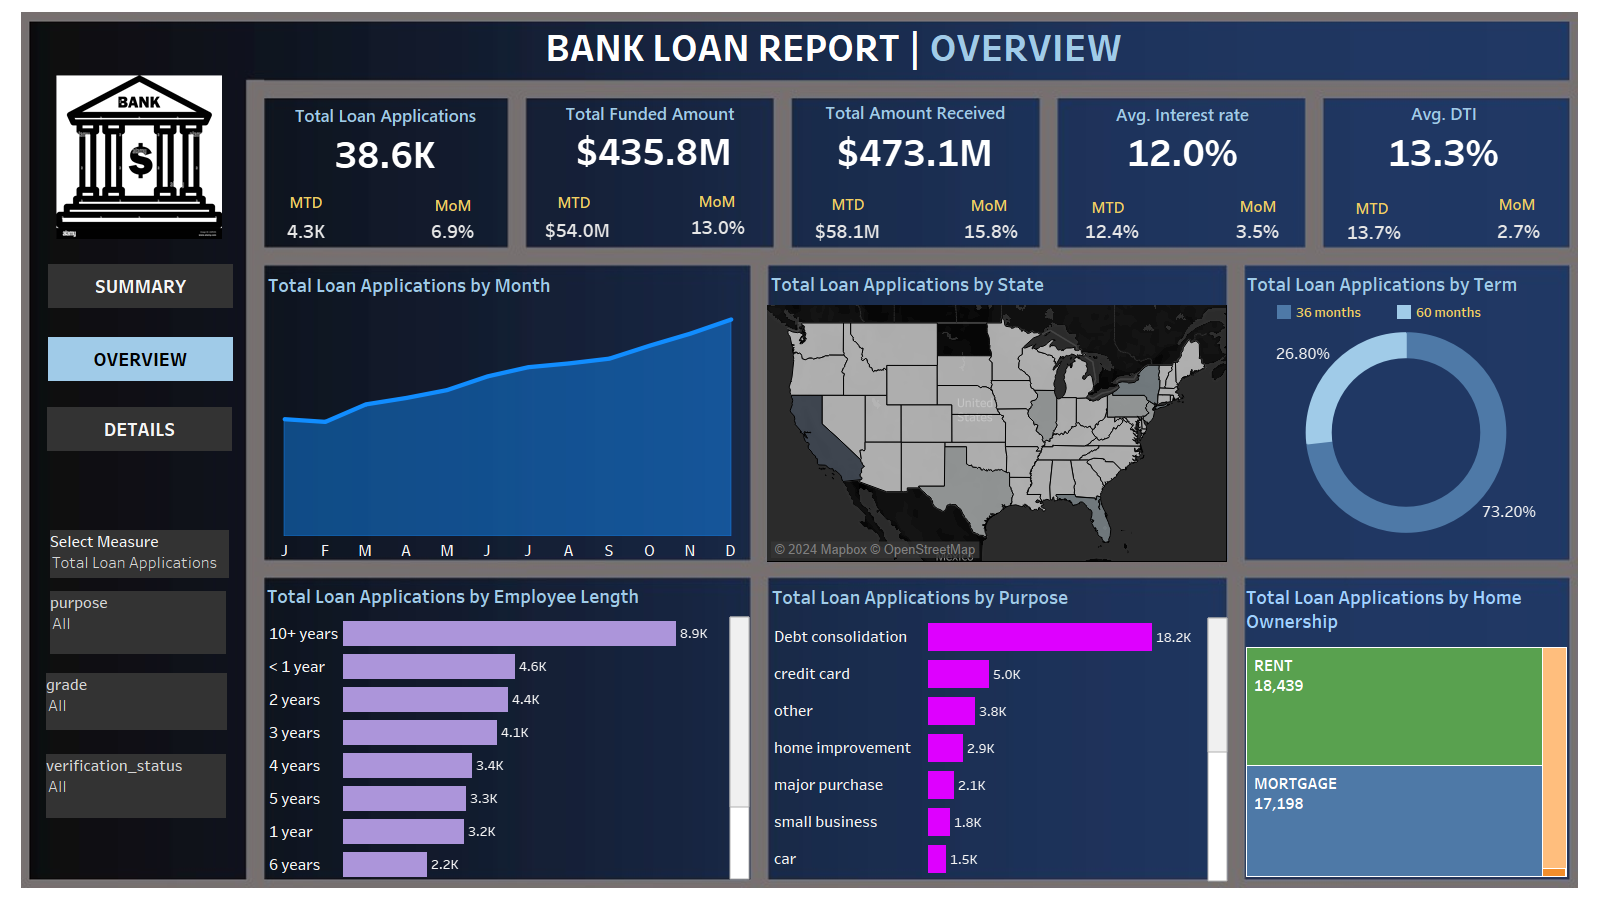

What the dashboard file says about the page in this screenshot:
{"tool":"tableau","page":{"name":"overview","canvas":[1600,900],"ordinal":1},"visuals":[{"type":"image","param":"C:/Users/YASH SHARMA/Downloads/Tableau Background 2.jpg","box":[8,8,1584,884]},{"type":"text","box":[542,15,630,61]},{"type":"image","param":"C:/Users/YASH SHARMA/Downloads/bank-icon-2GPEXFJ.jpg","box":[43,75,192,164]},{"type":"worksheet","title":"Total Amount Received","mark":"Automatic","box":[792,95,247,74]},{"type":"worksheet","title":"Total Funded Amount","mark":"Automatic","box":[526,96,248,71]},{"type":"worksheet","title":"Avg. DTI","mark":"Automatic","box":[1319,96,250,72]},{"type":"worksheet","title":"Avg. Interest rate","mark":"Automatic","box":[1058,97,249,71]},{"type":"worksheet","title":"Total Loan Applications","mark":"Automatic","box":[263,98,245,72]},{"type":"text","box":[667,186,100,30]},{"type":"text","box":[524,187,100,30]},{"type":"text","box":[261,188,90,27]},{"type":"text","box":[798,189,100,30]},{"type":"text","box":[1467,189,100,30]},{"type":"text","box":[403,190,100,30]},{"type":"text","box":[939,190,100,30]},{"type":"text","box":[1208,191,100,30]},{"type":"text","box":[1058,192,100,30]},{"type":"text","box":[1322,193,100,30]},{"type":"worksheet","title":"MoM Total Funded Amount","mark":"Automatic","box":[678,208,80,39]},{"type":"worksheet","title":"MoM Total Amount Received","mark":"Automatic","box":[946,209,91,45]},{"type":"worksheet","title":"MTD Total Amount Received","mark":"Automatic","box":[801,210,93,42]},{"type":"worksheet","title":"MoM Avg Int Rate","mark":"Automatic","box":[1209,211,99,40]},{"type":"worksheet","title":"MTD Total Funded Amount","mark":"Automatic","box":[537,213,81,34]},{"type":"worksheet","title":"MoM Avg DTI","mark":"Automatic","box":[1470,213,98,37]},{"type":"worksheet","title":"MTD Total Loan Applications","mark":"Automatic","box":[255,214,102,34]},{"type":"worksheet","title":"MoM Loan Applications","mark":"Automatic","box":[420,215,67,33]},{"type":"worksheet","title":"MTD Avg Int Rate","mark":"Automatic","box":[1067,215,90,32]},{"type":"worksheet","title":"MTD Avg DTI","mark":"Automatic","box":[1332,217,85,30]},{"type":"dashboard-object","box":[48,264,185,44]},{"type":"worksheet","title":"State","mark":"Multipolygon","box":[767,265,459,296]},{"type":"worksheet","title":"Term","mark":"Pie","rows":["Calculation_1767944382354726946","Calculation_1767944382354726946"],"box":[1243,265,326,295]},{"type":"worksheet","title":"Month","mark":"Area","rows":["Calculation_1767944382343553056","Calculation_1767944382343553056"],"cols":["issue_date"],"box":[264,266,487,295]},{"type":"legend","title":"Term","param":"[federated.17grwf20vej4w11bvqv6a1g31w7y].[none:term:nk]","box":[1274,302,266,20]},{"type":"dashboard-object","box":[48,337,185,44]},{"type":"dashboard-object","box":[47,407,185,44]},{"type":"parameter","param":"[Parameters].[Parameter 1]","box":[50,530,179,48]},{"type":"worksheet","title":"Emp Length","mark":"Automatic","rows":["emp_length"],"cols":["Calculation_1767944382343553056"],"box":[263,577,487,302]},{"type":"worksheet","title":"Purpose","mark":"Automatic","rows":["purpose"],"cols":["Calculation_1767944382343553056"],"box":[768,578,460,303]},{"type":"worksheet","title":"Home Ownership","mark":"Automatic","box":[1242,578,328,302]},{"type":"filter","title":"Avg. DTI","param":"[federated.17grwf20vej4w11bvqv6a1g31w7y].[none:purpose:nk]","box":[50,591,176,63]},{"type":"filter","title":"Avg. DTI","param":"[federated.17grwf20vej4w11bvqv6a1g31w7y].[none:grade:nk]","box":[46,673,181,57]},{"type":"filter","title":"Avg. DTI","param":"[federated.17grwf20vej4w11bvqv6a1g31w7y].[none:verification_status:nk]","box":[46,754,180,64]}]}

Visuals, with their boxes in screenshot pixels (x1, y1, x2, y2), scaled from the page's 1600x900 canvas onto the 1600x900 screenshot:
image: x1=8 y1=8 x2=1592 y2=892
text: x1=542 y1=15 x2=1172 y2=76
image: x1=43 y1=75 x2=235 y2=239
"Total Amount Received" worksheet: x1=792 y1=95 x2=1039 y2=169
"Total Funded Amount" worksheet: x1=526 y1=96 x2=774 y2=167
"Avg. DTI" worksheet: x1=1319 y1=96 x2=1569 y2=168
"Avg. Interest rate" worksheet: x1=1058 y1=97 x2=1307 y2=168
"Total Loan Applications" worksheet: x1=263 y1=98 x2=508 y2=170
text: x1=667 y1=186 x2=767 y2=216
text: x1=524 y1=187 x2=624 y2=217
text: x1=261 y1=188 x2=351 y2=215
text: x1=798 y1=189 x2=898 y2=219
text: x1=1467 y1=189 x2=1567 y2=219
text: x1=403 y1=190 x2=503 y2=220
text: x1=939 y1=190 x2=1039 y2=220
text: x1=1208 y1=191 x2=1308 y2=221
text: x1=1058 y1=192 x2=1158 y2=222
text: x1=1322 y1=193 x2=1422 y2=223
"MoM Total Funded Amount" worksheet: x1=678 y1=208 x2=758 y2=247
"MoM Total Amount Received" worksheet: x1=946 y1=209 x2=1037 y2=254
"MTD Total Amount Received" worksheet: x1=801 y1=210 x2=894 y2=252
"MoM Avg Int Rate" worksheet: x1=1209 y1=211 x2=1308 y2=251
"MTD Total Funded Amount" worksheet: x1=537 y1=213 x2=618 y2=247
"MoM Avg DTI" worksheet: x1=1470 y1=213 x2=1568 y2=250
"MTD Total Loan Applications" worksheet: x1=255 y1=214 x2=357 y2=248
"MoM Loan Applications" worksheet: x1=420 y1=215 x2=487 y2=248
"MTD Avg Int Rate" worksheet: x1=1067 y1=215 x2=1157 y2=247
"MTD Avg DTI" worksheet: x1=1332 y1=217 x2=1417 y2=247
dashboard-object: x1=48 y1=264 x2=233 y2=308
"State" worksheet (Multipolygon marks): x1=767 y1=265 x2=1226 y2=561
"Term" worksheet (Pie marks): x1=1243 y1=265 x2=1569 y2=560
"Month" worksheet (Area marks): x1=264 y1=266 x2=751 y2=561
"Term" legend: x1=1274 y1=302 x2=1540 y2=322
dashboard-object: x1=48 y1=337 x2=233 y2=381
dashboard-object: x1=47 y1=407 x2=232 y2=451
parameter: x1=50 y1=530 x2=229 y2=578
"Emp Length" worksheet: x1=263 y1=577 x2=750 y2=879
"Purpose" worksheet: x1=768 y1=578 x2=1228 y2=881
"Home Ownership" worksheet: x1=1242 y1=578 x2=1570 y2=880
"Avg. DTI" filter: x1=50 y1=591 x2=226 y2=654
"Avg. DTI" filter: x1=46 y1=673 x2=227 y2=730
"Avg. DTI" filter: x1=46 y1=754 x2=226 y2=818
